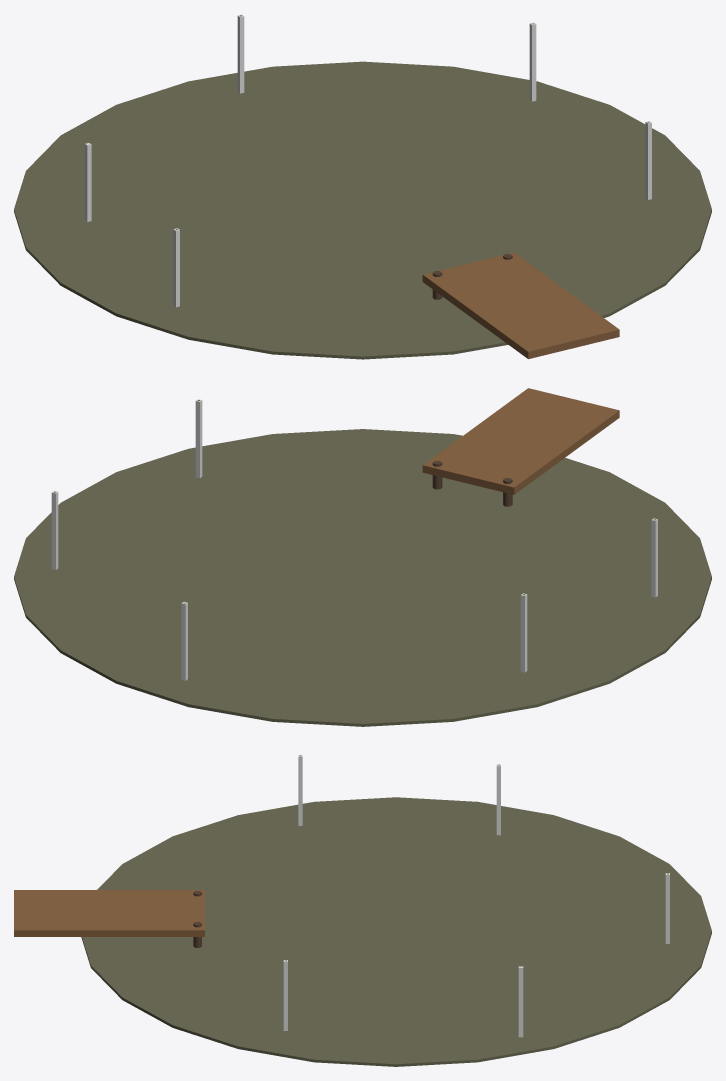
Rendered from booth-pond.glb.
3 renders of one model, top to bottom at view 1: azimuth 30°, elevation 25°; view 2: azimuth 150°, elevation 25°; view 3: azimuth 270°, elevation 25°, orthographic. The views are drawn at different scales.
Visible parts, largest first — view 1: 00_#6a6a52_noshadow, 01_#8a6440, solid.003, solid.004, solid, solid.001, solid.002; view 2: 00_#6a6a52_noshadow, 01_#8a6440, solid.001, solid.003, solid.002, solid.004, solid; view 3: 00_#6a6a52_noshadow, 01_#8a6440.
Part boxes in pixels (x1,y1,x2,y2): 00_#6a6a52_noshadow: (14,61,711,359); 01_#8a6440: (422,252,619,359); solid.003: (529,22,536,101); solid.004: (237,14,244,93); solid: (173,228,179,307); solid.001: (85,143,91,221); solid.002: (645,121,651,199); 00_#6a6a52_noshadow: (14,429,711,726); 01_#8a6440: (422,388,619,494); solid.001: (520,593,527,672); solid.003: (51,491,58,569); solid.002: (195,399,202,478); solid.004: (181,601,187,680); solid: (651,518,657,597); 00_#6a6a52_noshadow: (81,797,711,1066); 01_#8a6440: (14,890,204,936).
Bounding box in the file's own units: 8.6 × 1.2 × 9.5.
